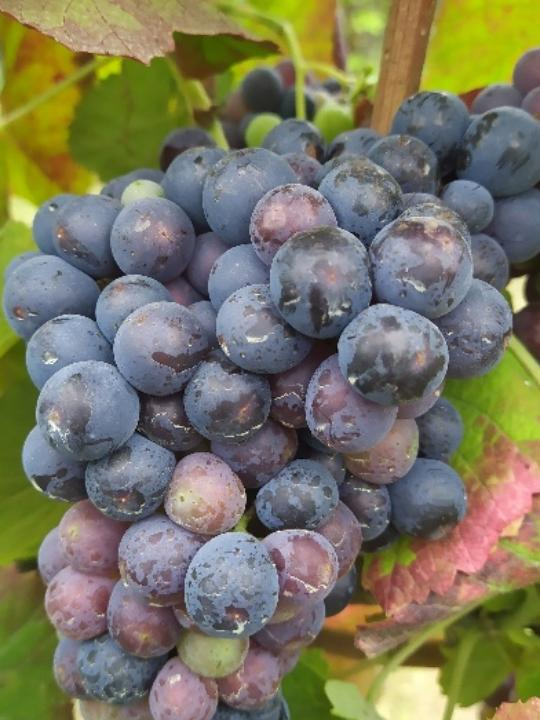grape: (0, 93, 540, 720)
